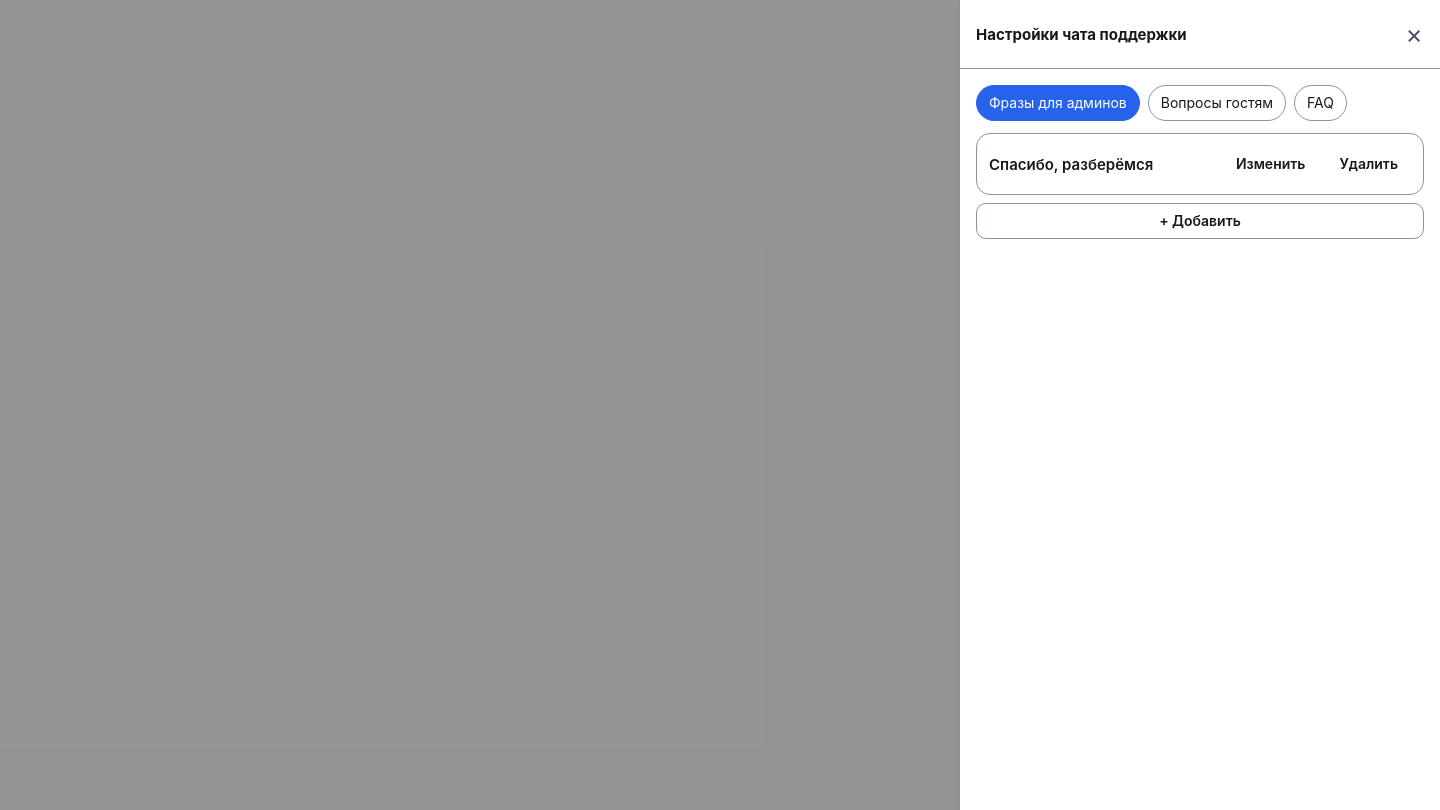
три вкладки переключаются независимо
Expected: the text "Спасибо, разберёмся" is shown, top-left (989, 154), bottom-right (1153, 174)
Click the button "Вопросы гостям": point(1217, 103) top-left (1148, 85), bottom-right (1286, 121)
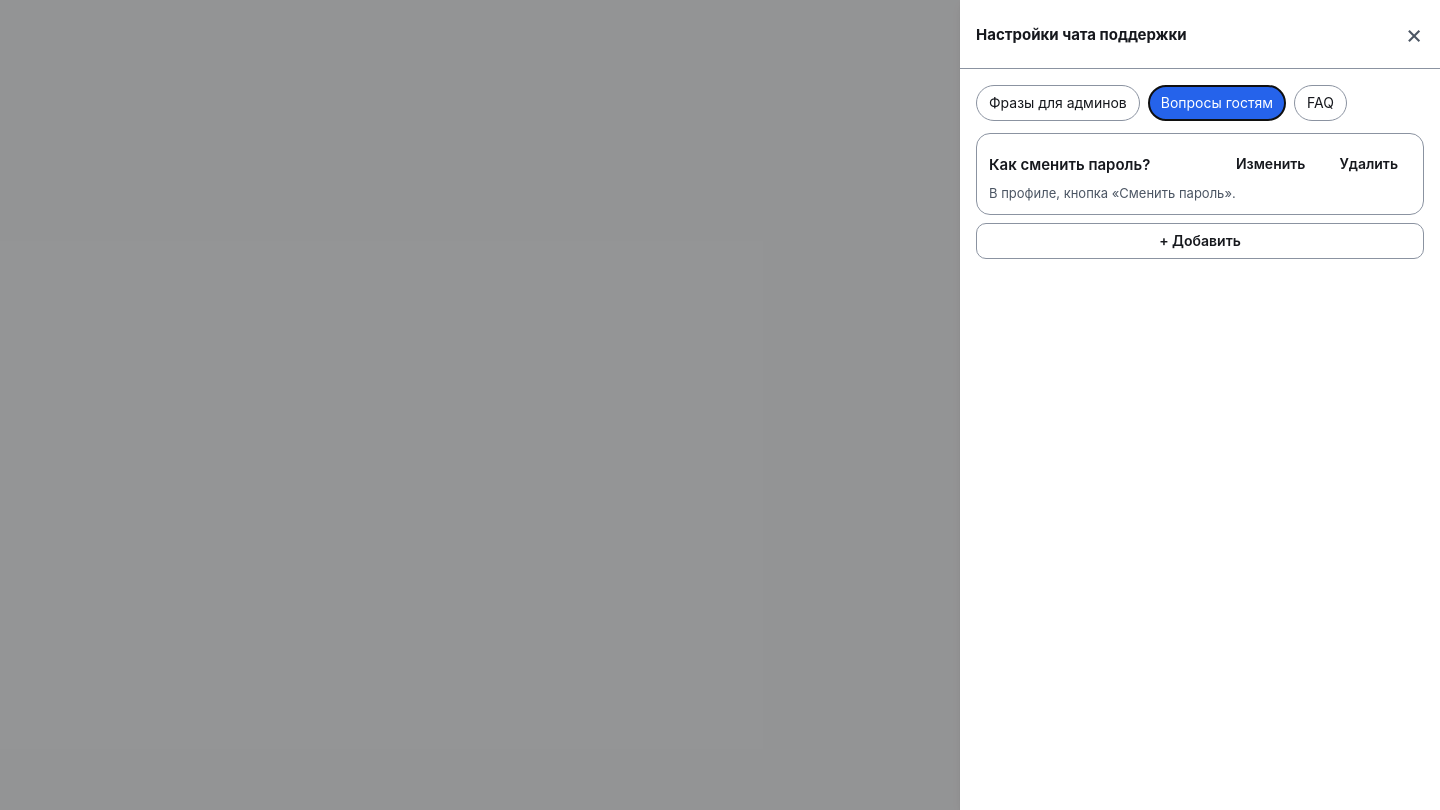
Now the text "Как сменить пароль?" is shown, box top-left (989, 154), bottom-right (1150, 174)
Now the text "Спасибо, разберёмся" is gone
Click the button "FAQ": point(1320, 103) top-left (1294, 85), bottom-right (1347, 121)
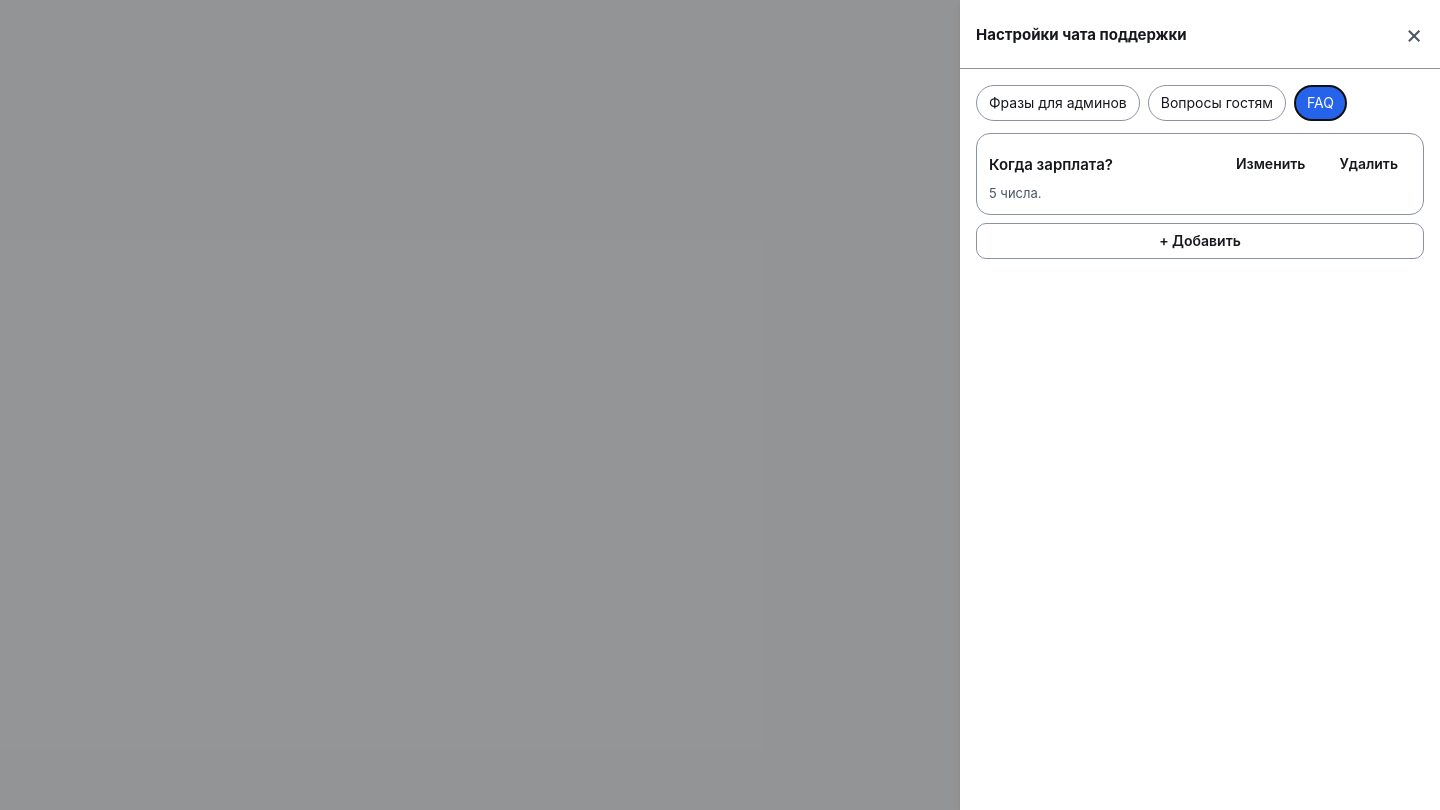
Now the text "Когда зарплата?" is shown, box top-left (989, 154), bottom-right (1113, 174)
